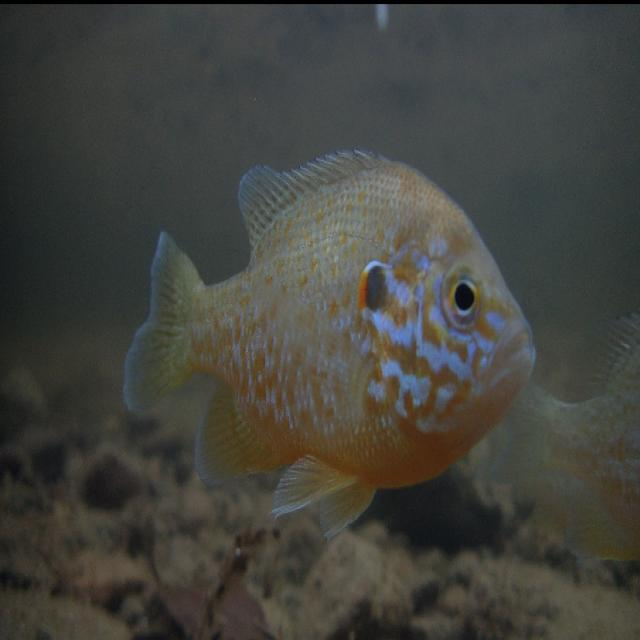Gunes Levregi: (122, 143, 538, 544)
